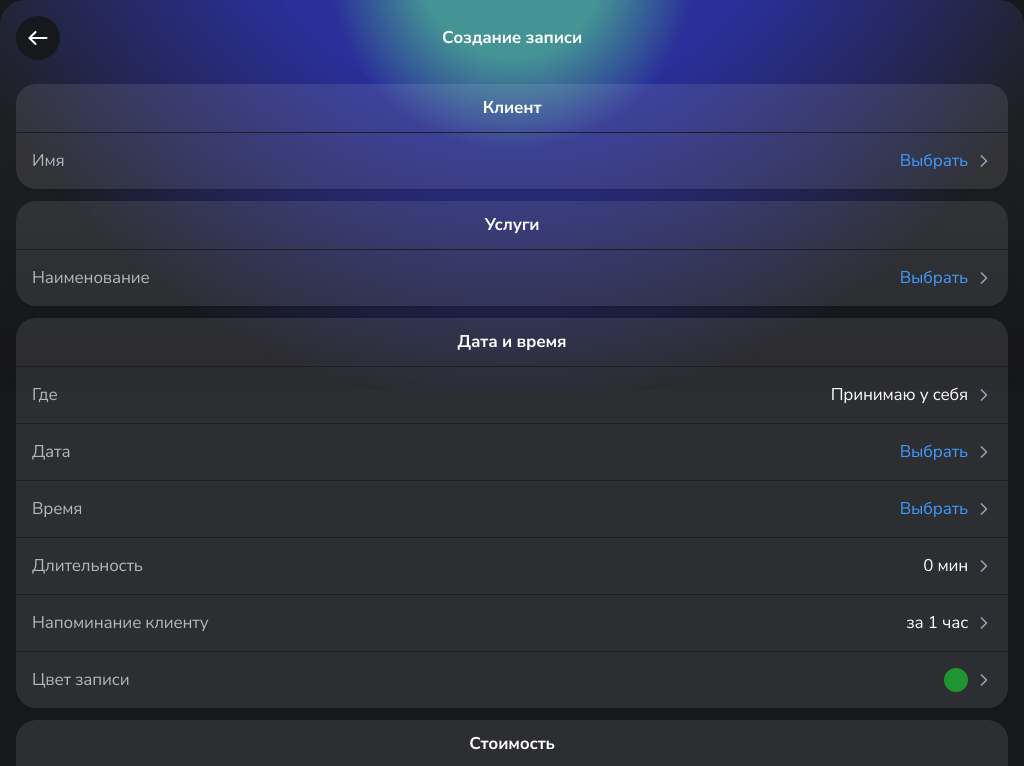
Test: master CreateBookingPage › скрывает прошедшие слоты сегодняшнего дня в часовом поясе мастера
The image size is (1024, 766).
Click the button "Дата Выбрать" at coordinates (51, 452), box [16,424,1008,481]
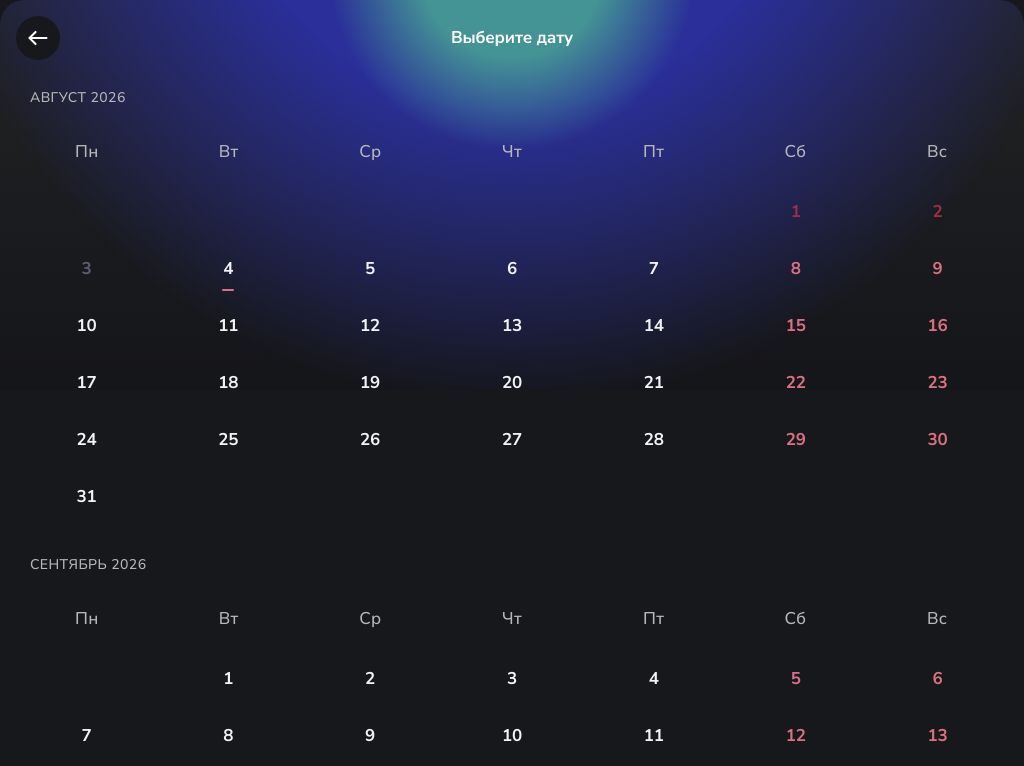
Click the button "4" below "август 2026" at coordinates (228, 269), box [158,241,299,297]
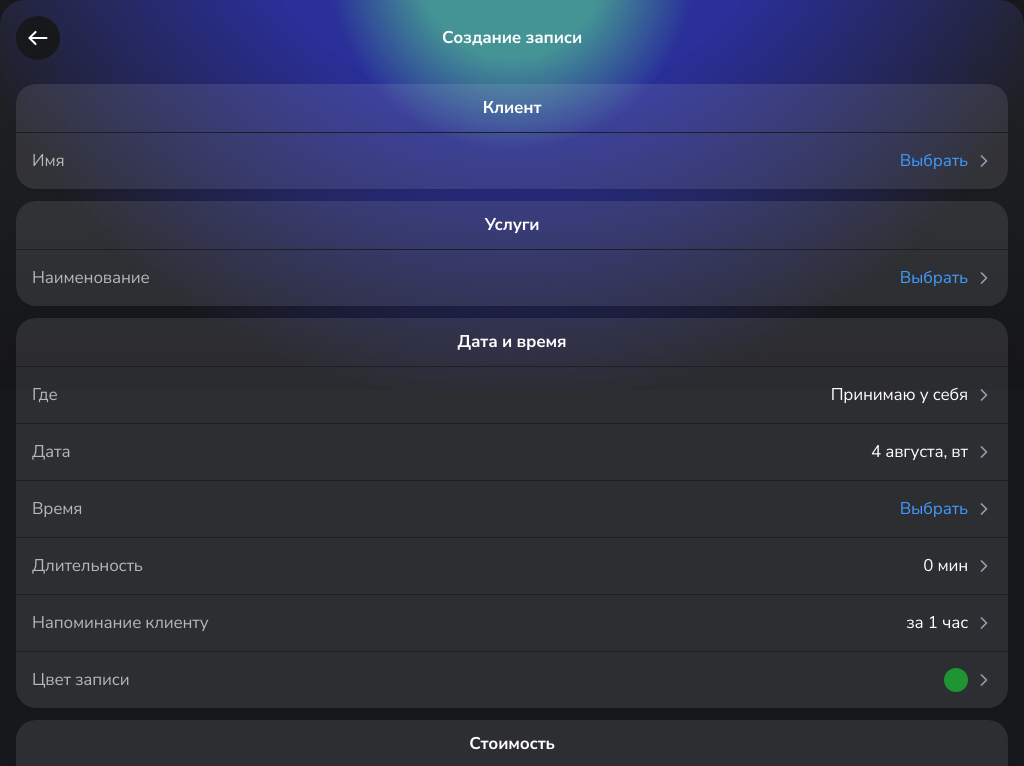
Click the button "Время Выбрать" at coordinates (57, 508), box [16,481,1008,538]
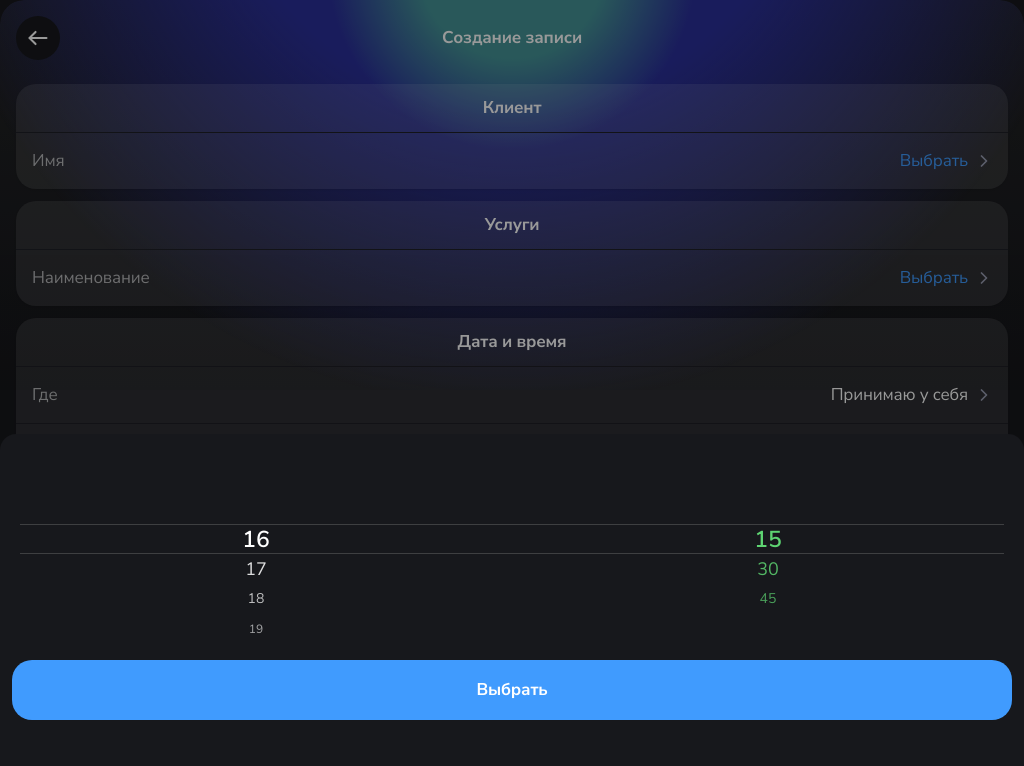
Expected: the button "12" is not shown
Expected: the option "16" is shown, [242,524,270,554]
